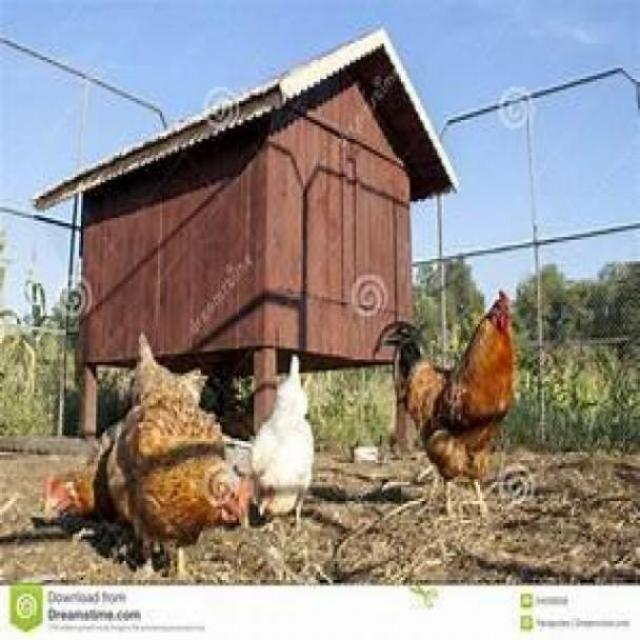Chicken: (107, 332, 243, 580), (377, 291, 515, 515), (45, 371, 209, 521), (250, 357, 316, 531)
